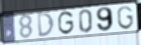0: (78, 8, 94, 34)
8: (18, 13, 34, 39)
9: (96, 6, 116, 33)
D: (36, 11, 55, 38)
G: (116, 5, 135, 31), (57, 10, 75, 36)
